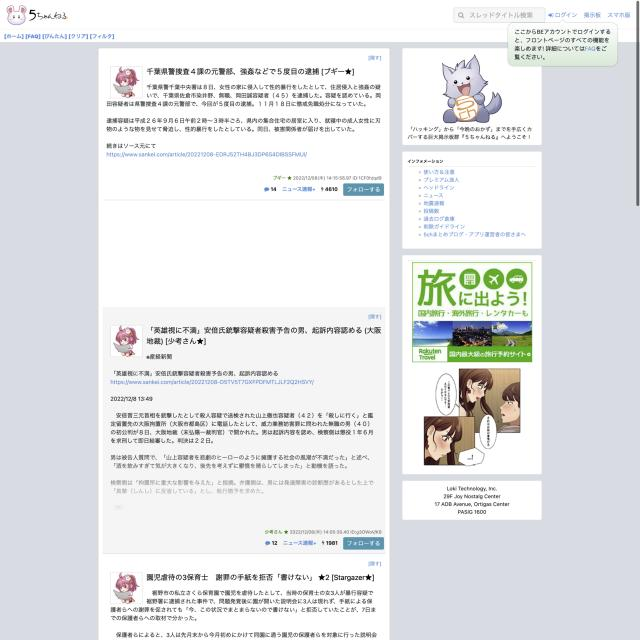logo: (0, 5, 71, 27)
